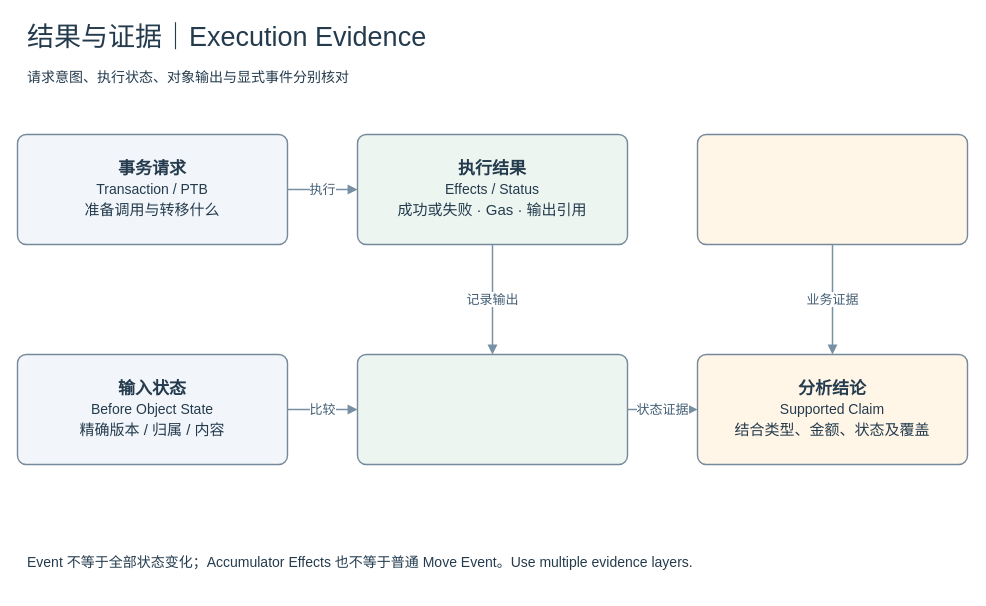
Image size: 986x606. Some labels were removed from this diagram. Here are the shapes that lost their labels. From the top down, the centre of each, then its label:
[832,189]: 业务叙述 Move Events 由程序显式发出；可能没有
[492,409]: 输出状态 After Object State 创建 / 修改 / 删除等结果
